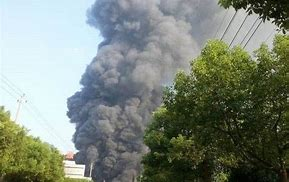smoke: (64, 1, 202, 182)
